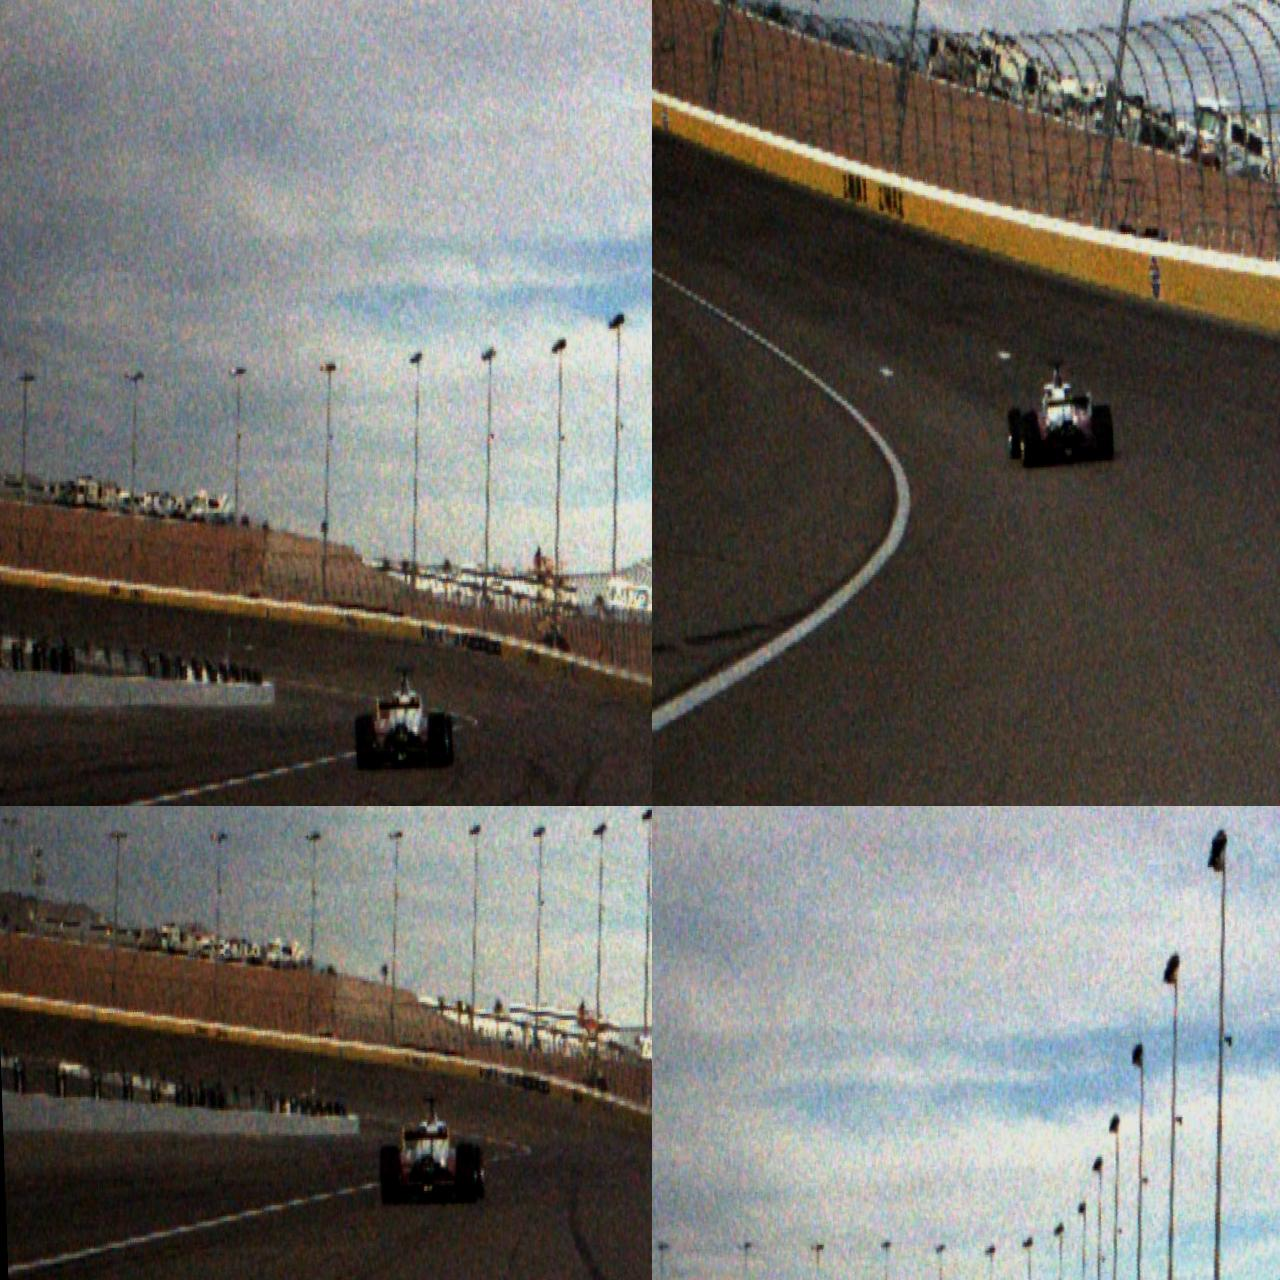AV: (376, 1094, 485, 1207), (1005, 358, 1114, 469), (353, 663, 455, 771)
Wheel: (454, 1142, 477, 1204), (379, 1144, 402, 1205), (427, 710, 447, 769), (354, 714, 374, 771), (1019, 411, 1039, 468), (1094, 404, 1114, 461), (1007, 408, 1023, 458)
